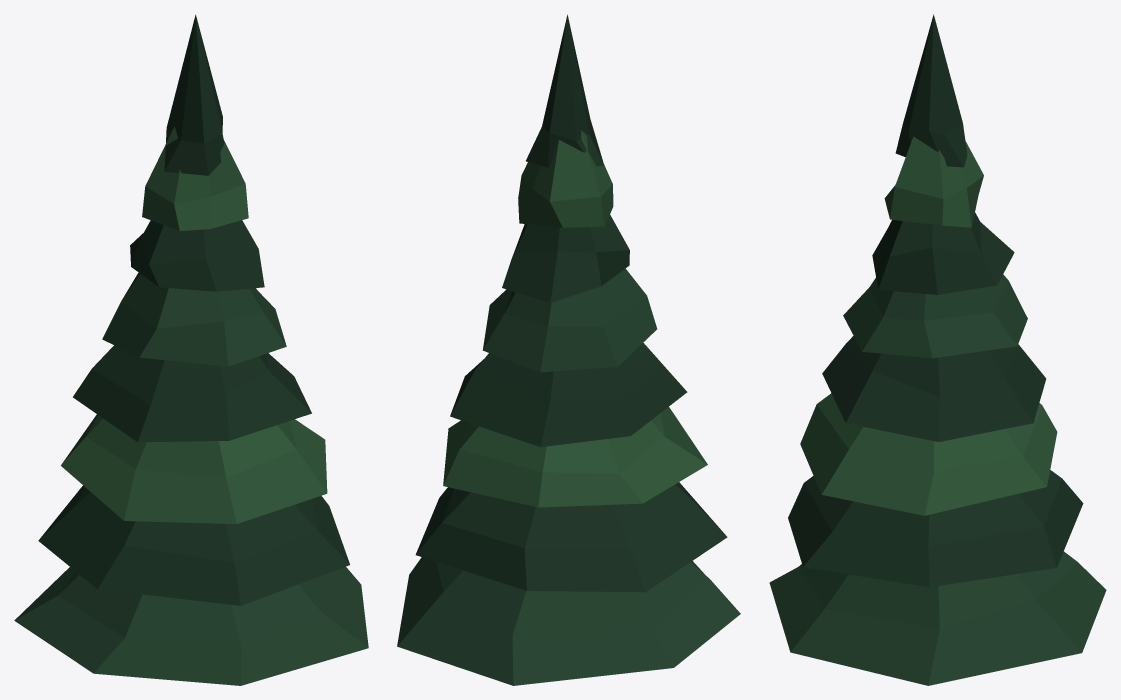
Rendered from forest_spruce.glb.
The picture shows the model from 3 angles, left to right: view 1: azimuth 30°, elevation 25°; view 2: azimuth 150°, elevation 25°; view 3: azimuth 270°, elevation 25°; orthographic projection. The views are drawn at different scales.
Visible parts, largest first — view 1: forest_spruce; view 2: forest_spruce; view 3: forest_spruce.
Part boxes in pixels (<box>): forest_spruce: <box>14,14,368,685</box>; forest_spruce: <box>397,14,740,685</box>; forest_spruce: <box>769,14,1106,685</box>.
Bounding box in the file's own units: 3.73 × 7.1 × 3.63.
